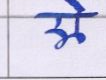e_matra: (66, 0, 89, 12)
